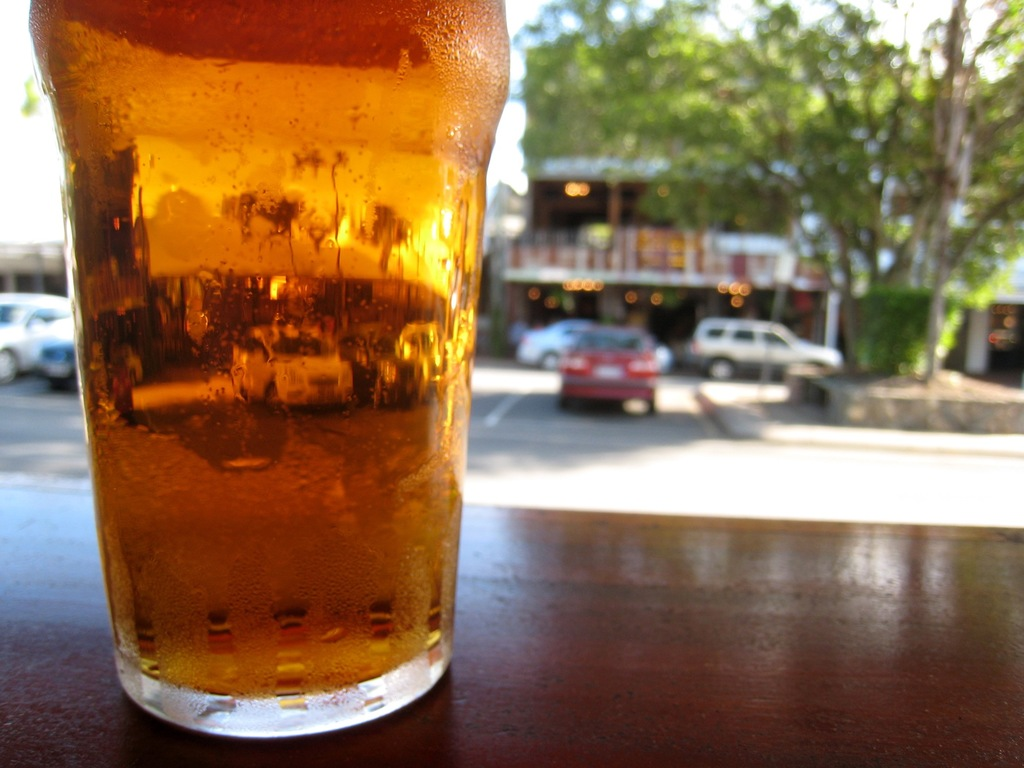Beer: (24, 0, 510, 739)
